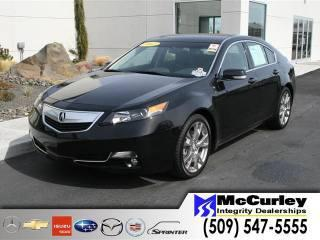Car: (12, 24, 312, 188)
